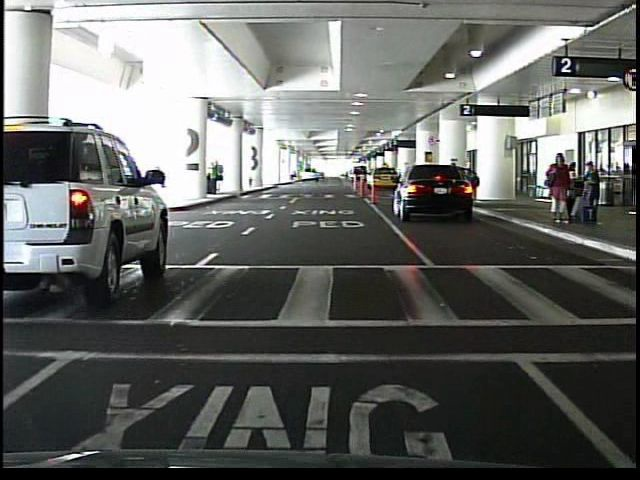person: (543, 153, 574, 226), (579, 162, 601, 228), (208, 161, 220, 198), (567, 162, 578, 200), (220, 164, 221, 196)
